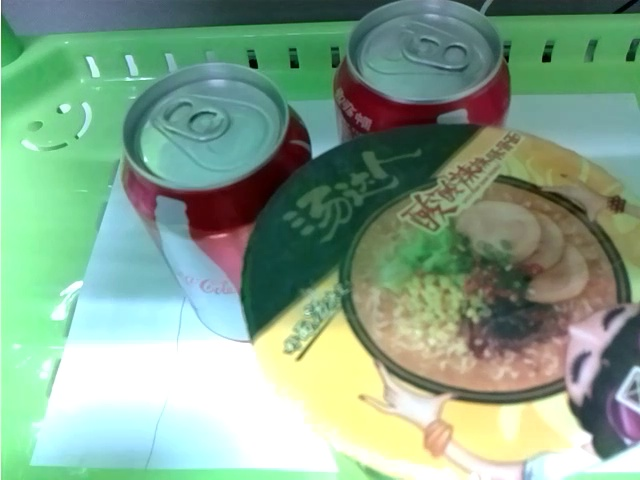cocacola: (116, 62, 311, 346), (329, 3, 511, 134)
noodles: (245, 129, 640, 480)
